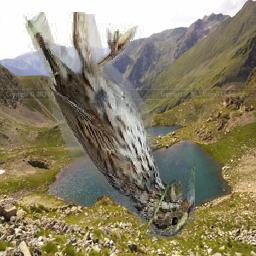Sparrow: (23, 13, 195, 240)
